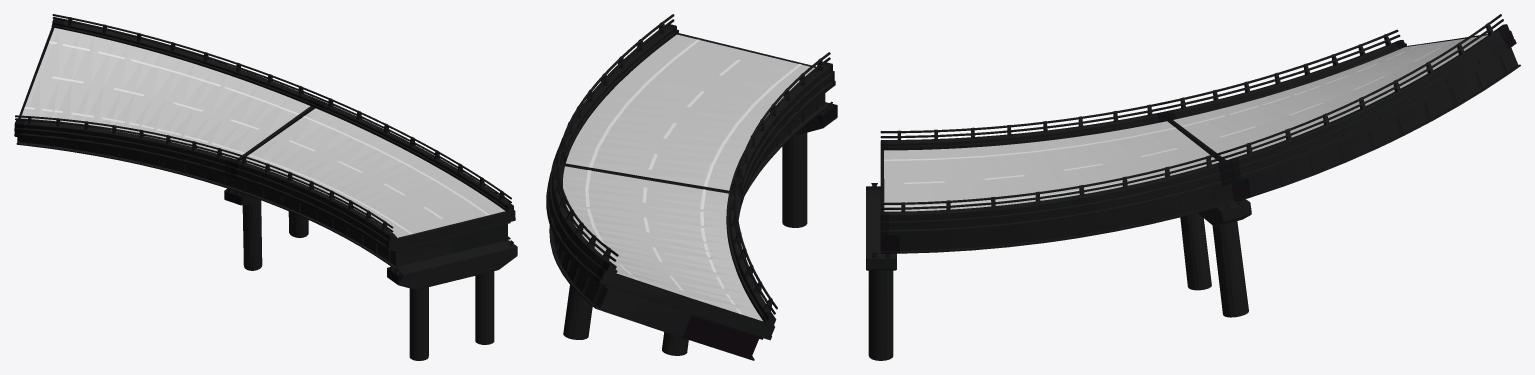
Rendered from Highway_Segment02.fbx.
The picture shows the model from 3 angles, left to right: view 1: azimuth 30°, elevation 25°; view 2: azimuth 150°, elevation 25°; view 3: azimuth 270°, elevation 25°; orthographic projection. The views are drawn at different scales.
Visible parts, largest first — view 1: SM_City_Highway_Segment_01d.mo; view 2: SM_City_Highway_Segment_01d.mo; view 3: SM_City_Highway_Segment_01d.mo.
Boxes of the visible parts, x1,y1,x2,y2 form: SM_City_Highway_Segment_01d.mo: [14, 14, 517, 360]; SM_City_Highway_Segment_01d.mo: [546, 14, 837, 360]; SM_City_Highway_Segment_01d.mo: [866, 14, 1520, 360].
Bounding box in the file's own units: 2514 × 1541 × 3938.
